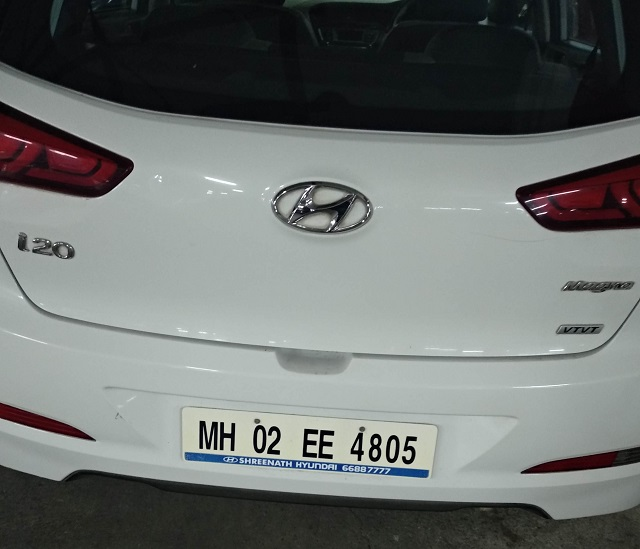licenseplate: (179, 406, 444, 484)
